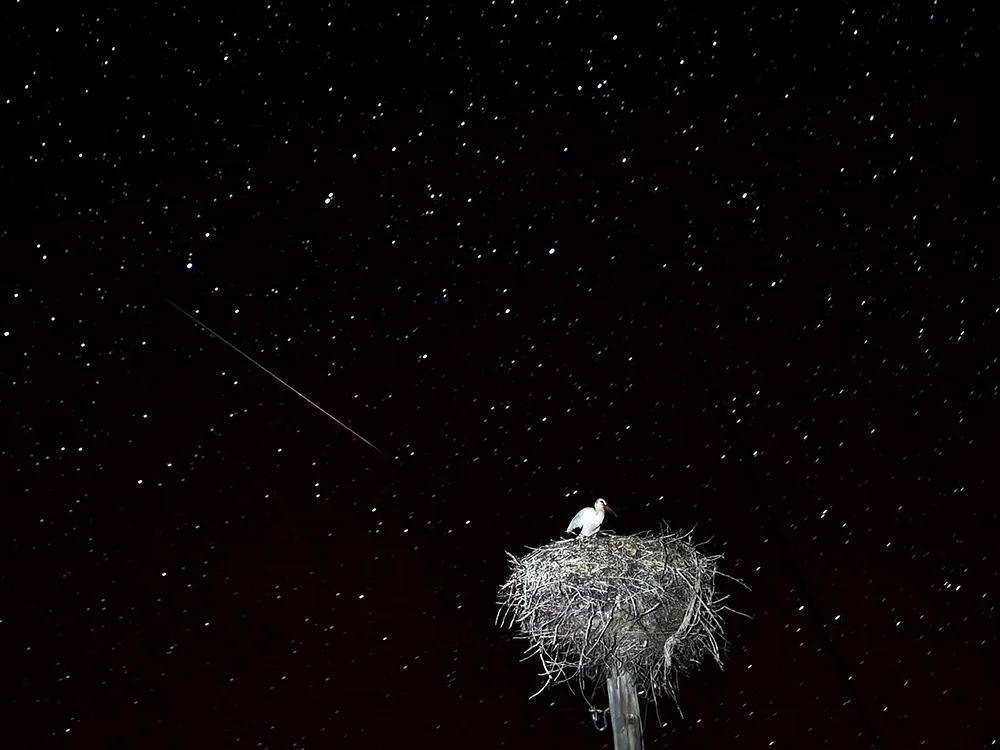meteorite: (135, 248, 453, 506)
